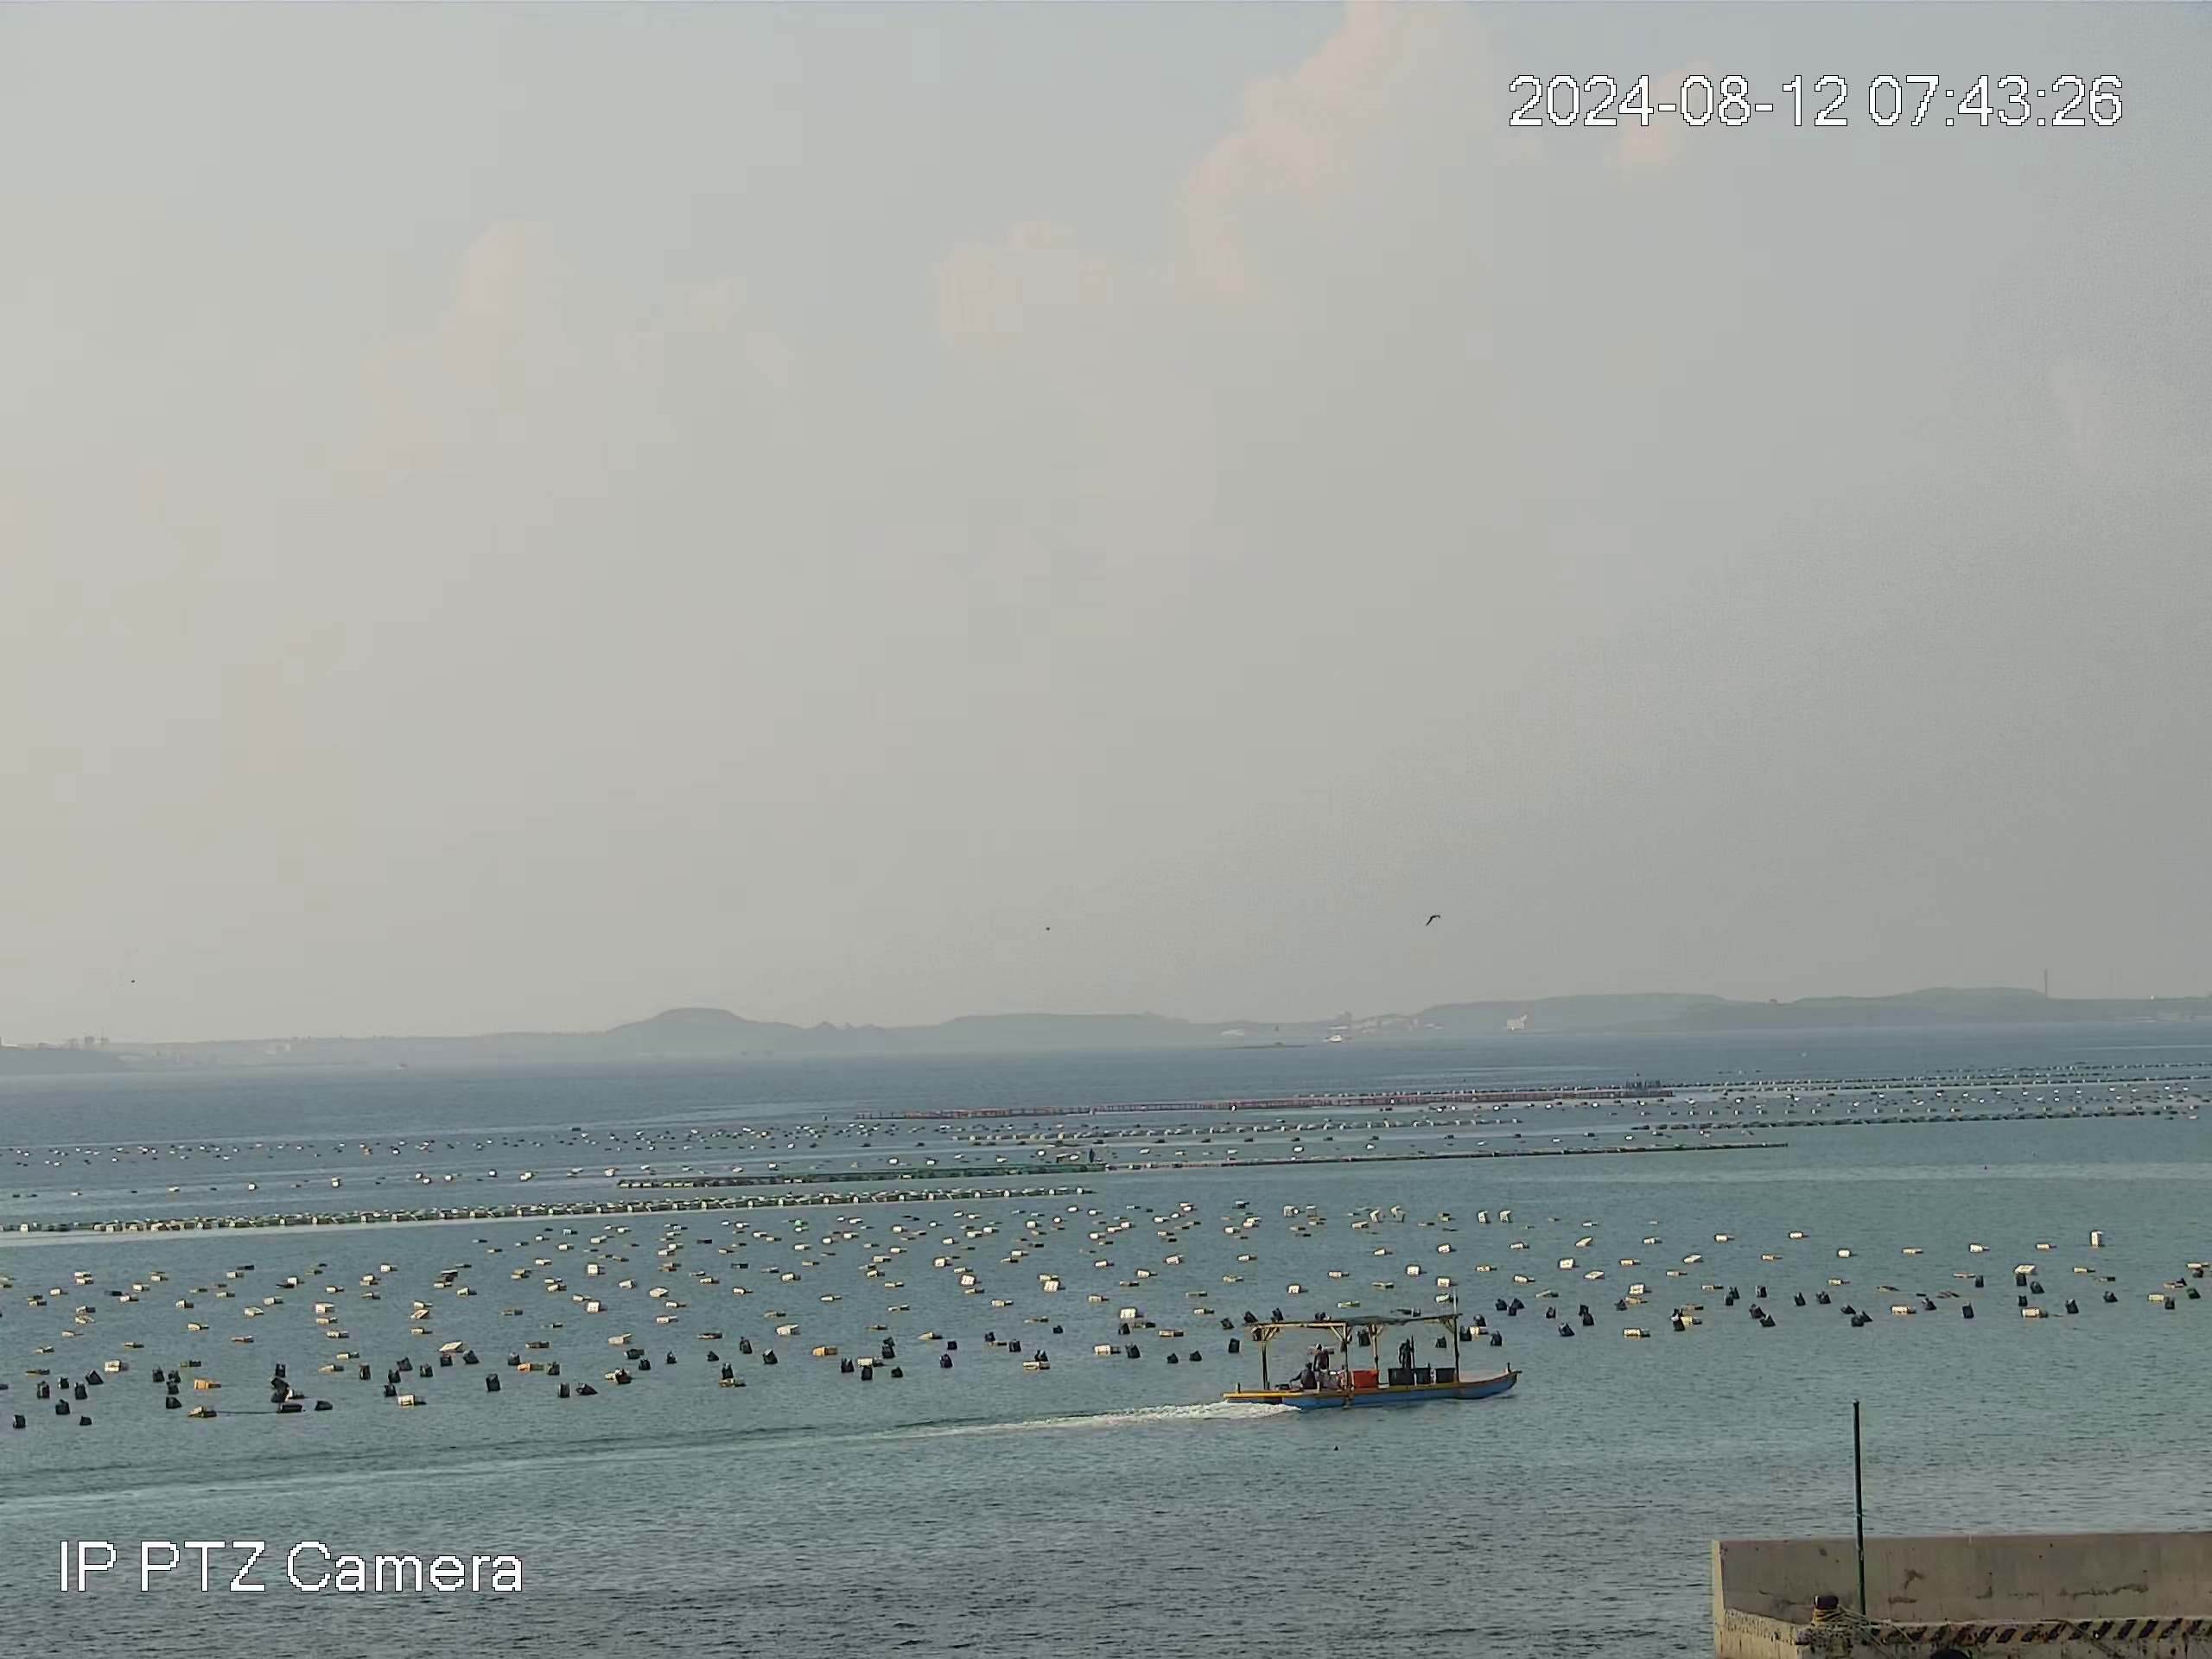boat: (1217, 1316, 1526, 1419)
